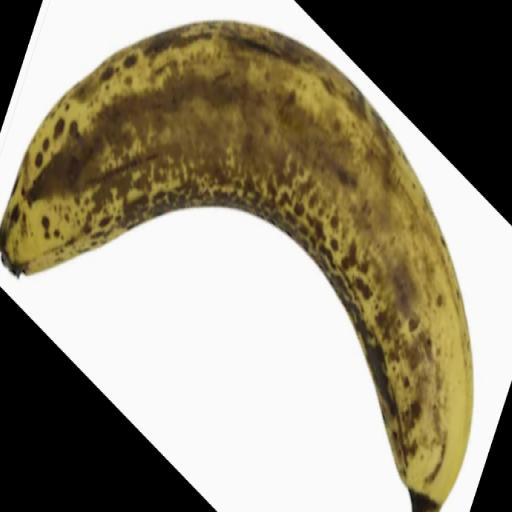banana-overripe: (0, 0, 497, 512)
